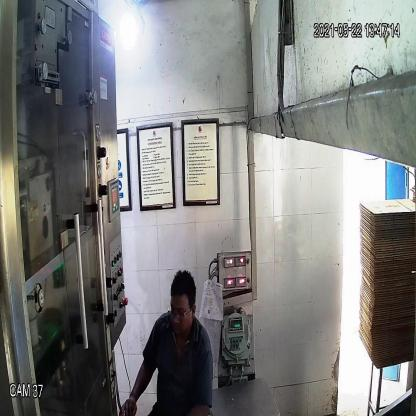goggles: (166, 302, 194, 321)
